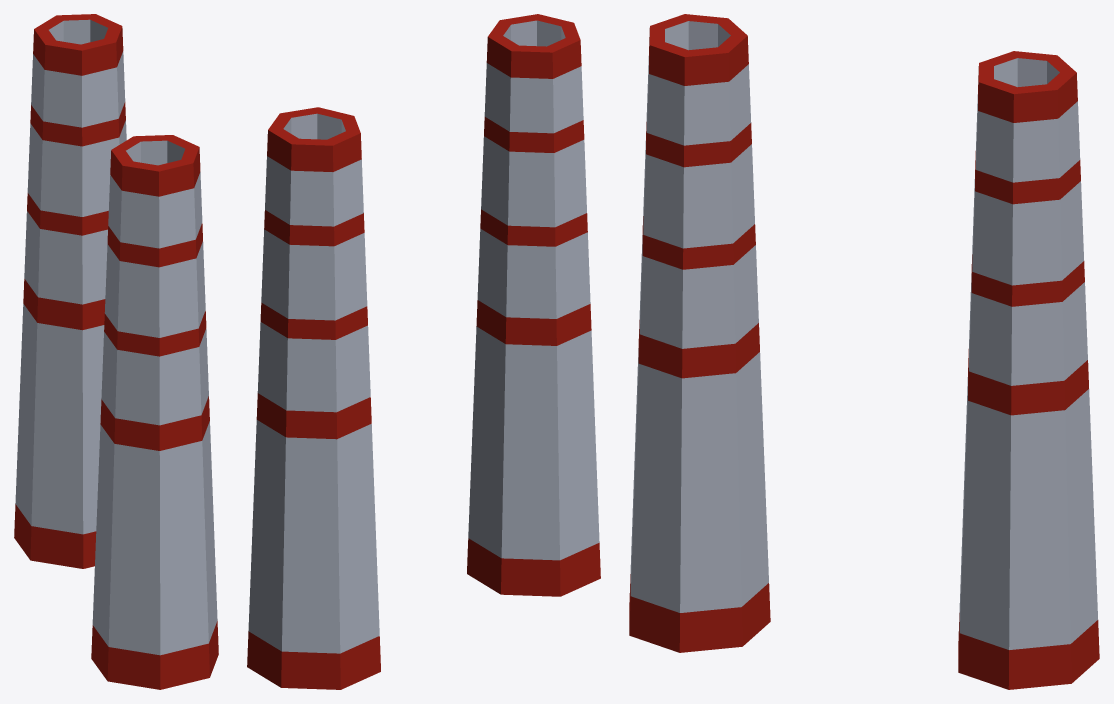
Rendered from fabriko bokstai.fbx.
3 views of the same model, side by side, from view 1: azimuth 30°, elevation 25°; view 2: azimuth 150°, elevation 25°; view 3: azimuth 270°, elevation 25° (orthographic). The views are drawn at different scales.
Parts seen in each view (by area): view 1: kaminai.002; view 2: kaminai.002; view 3: kaminai.002.
Boxes of the visible parts, x1,y1,x2,y2 form: kaminai.002: [14, 14, 218, 689]; kaminai.002: [247, 14, 600, 689]; kaminai.002: [629, 14, 1099, 689].
Bounding box in the file's own units: 400 × 1100 × 800.
